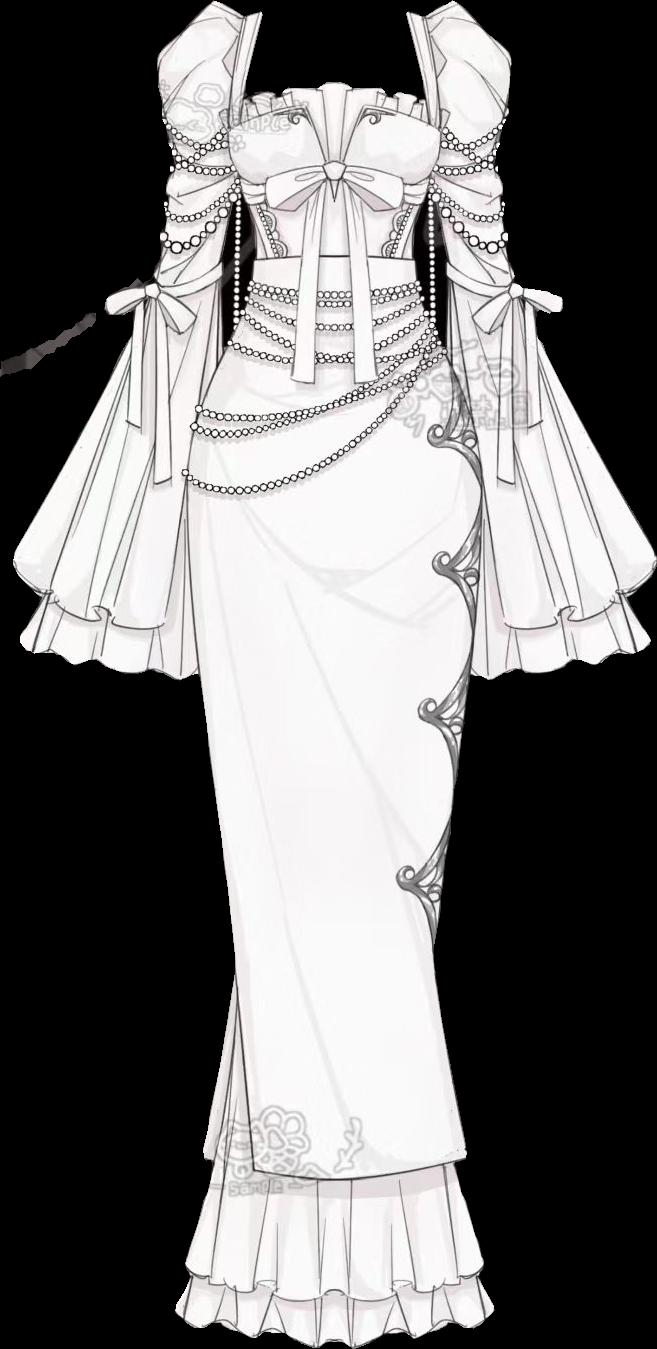Bodice: (225, 12, 444, 262)
Hemline: (203, 992, 476, 1181), (173, 1302, 508, 1348), (183, 1262, 492, 1307)
Neckline: (223, 100, 445, 200), (241, 11, 431, 107)
Skirt: (176, 258, 493, 1346)
Sleeve: (420, 1, 656, 679), (13, 2, 247, 679)
Sleeveline: (440, 266, 549, 317), (129, 266, 232, 317), (426, 14, 461, 150), (219, 12, 256, 139), (170, 149, 234, 170), (440, 156, 497, 177)
Waistline: (253, 248, 422, 269)
